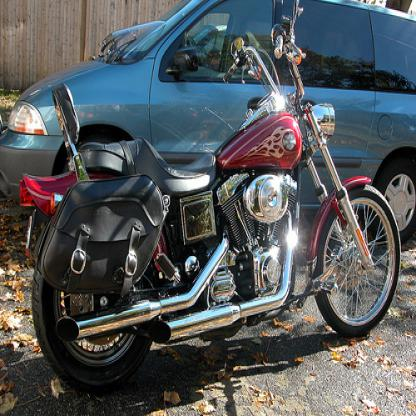car: (0, 0, 415, 244)
motorbike: (18, 0, 401, 394)
